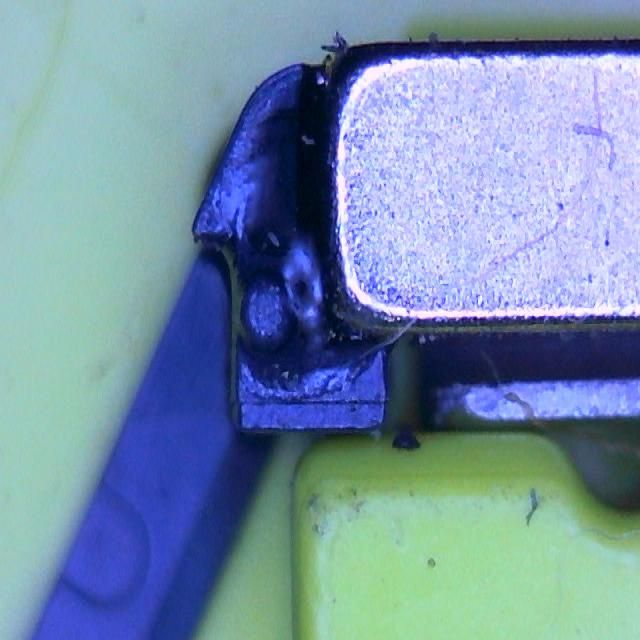over: (241, 106, 331, 308)
